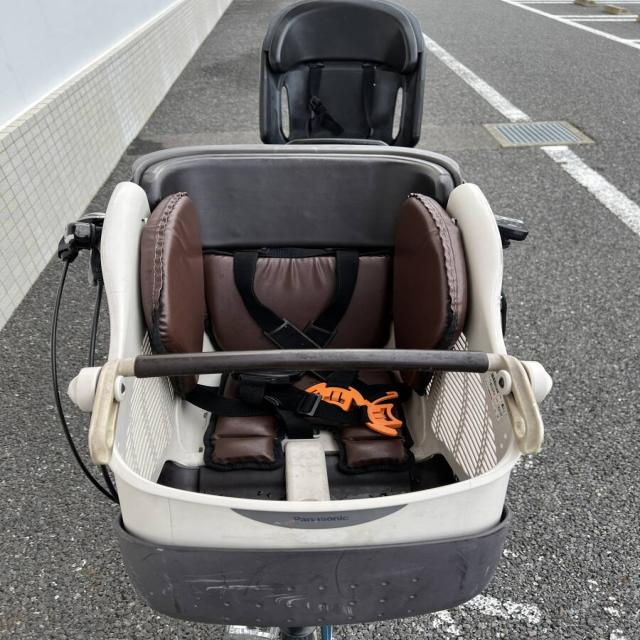childseat: (103, 142, 524, 614)
